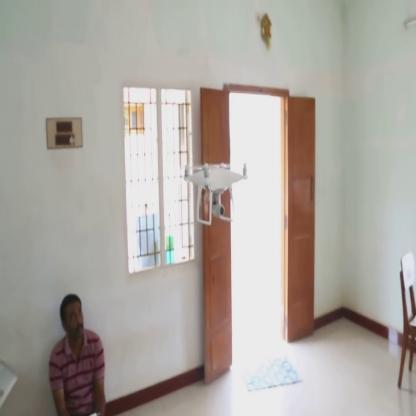drone: (180, 151, 251, 229)
